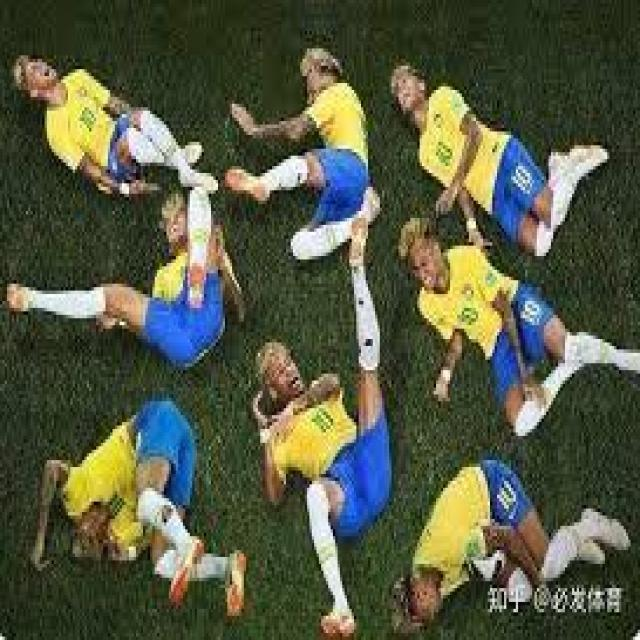fall: (255, 215, 390, 640), (399, 219, 640, 436), (32, 402, 248, 619), (391, 459, 630, 640), (390, 64, 608, 256), (7, 190, 235, 371), (227, 48, 380, 256), (9, 56, 220, 192)
